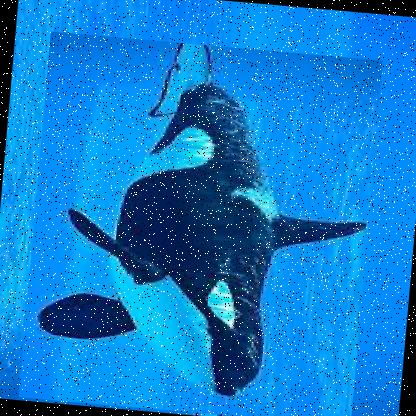killer_whale: (17, 32, 383, 415)
